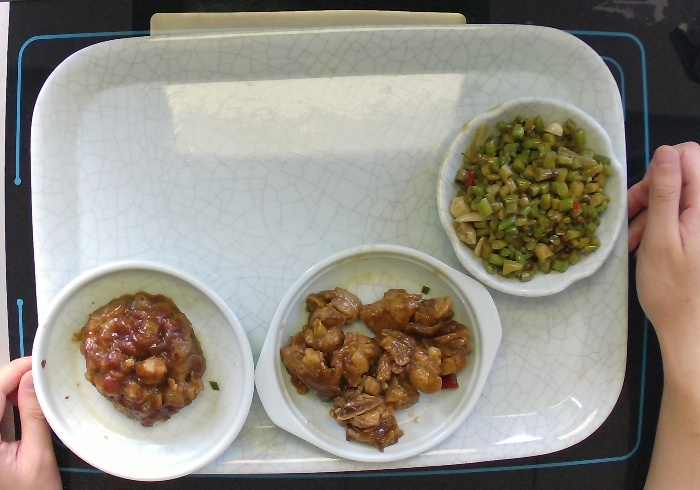JYsf-Ao_Yuan_Wan: (423, 90, 633, 306)
JYsf-Shuang_Er_Pan: (247, 231, 511, 475)
JYsf-Xiao_Yuan_Pan: (24, 252, 258, 485)
